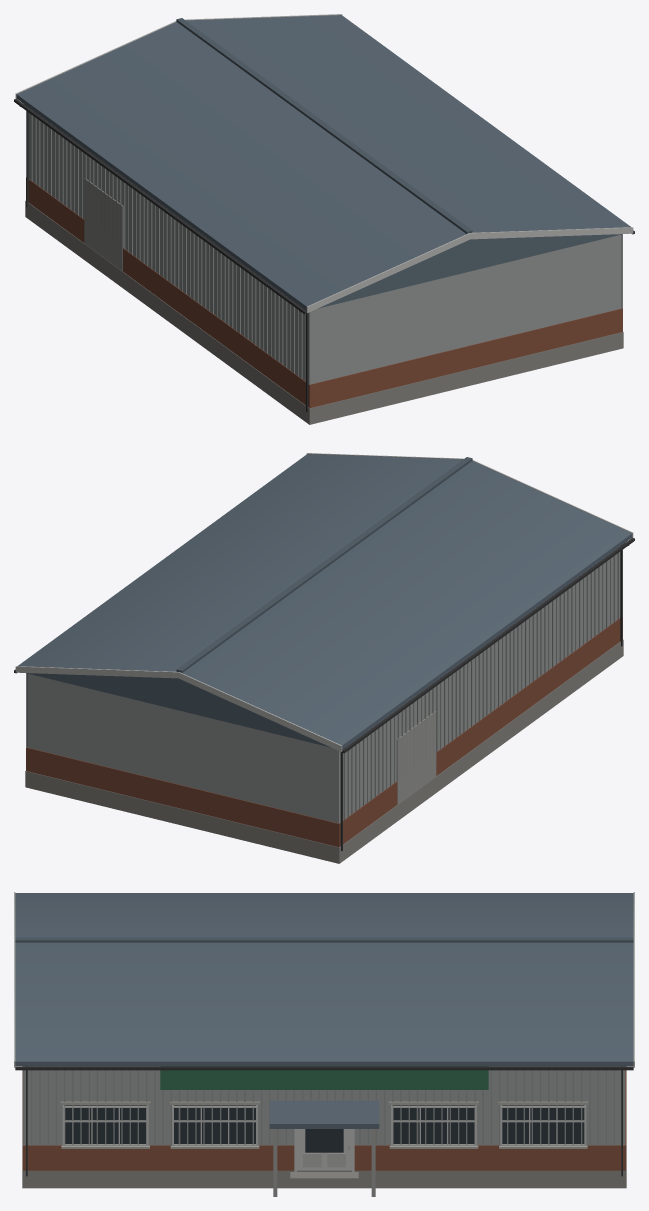
The model's file is SM_Prop_cafe_building_18.glb.
3 views of the same model, one above another, from view 1: azimuth 30°, elevation 25°; view 2: azimuth 150°, elevation 25°; view 3: azimuth 270°, elevation 25° (orthographic). The views are drawn at different scales.
Parts seen in each view (by area): view 1: SM_Prop_cafe_building_18; view 2: SM_Prop_cafe_building_18; view 3: SM_Prop_cafe_building_18.
Boxes of the visible parts, x1,y1,x2,y2 form: SM_Prop_cafe_building_18: (14, 14, 634, 424); SM_Prop_cafe_building_18: (14, 453, 634, 863); SM_Prop_cafe_building_18: (14, 892, 634, 1196).
Bounding box in the file's own units: 16.42 × 6.77 × 22.7.
